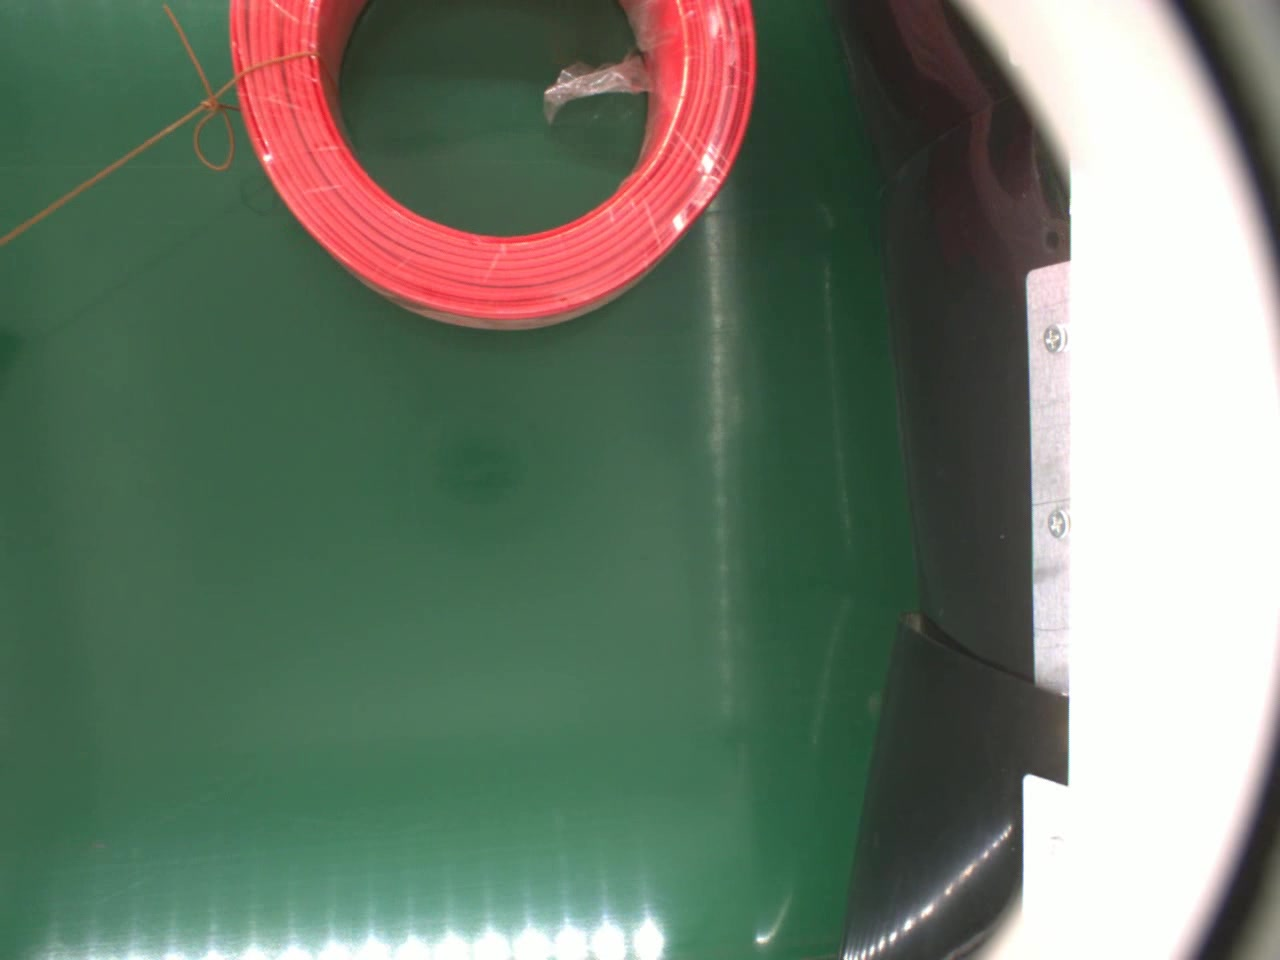red: (220, 0, 758, 333)
